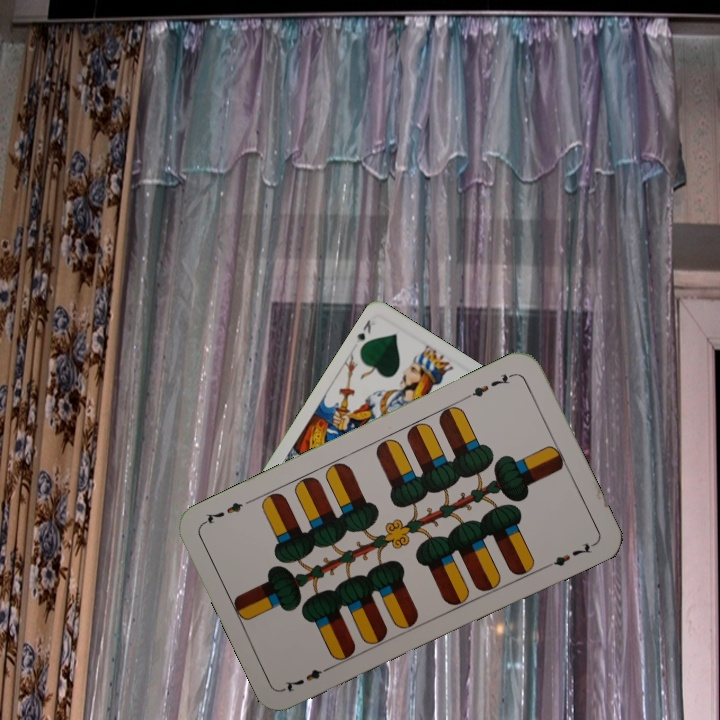E7: (280, 661, 336, 694), (462, 369, 517, 400)
GK: (352, 316, 374, 346)
